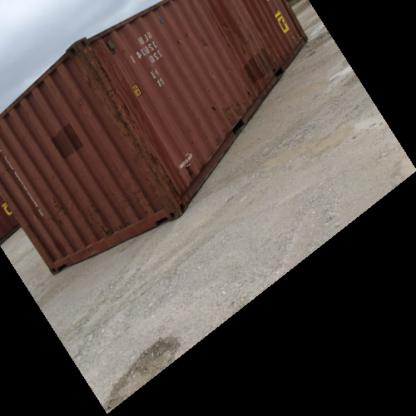Damage: (78, 47, 146, 143), (126, 145, 186, 210), (173, 18, 213, 62), (80, 194, 117, 240), (249, 36, 287, 80), (38, 187, 72, 223), (207, 95, 247, 121)
